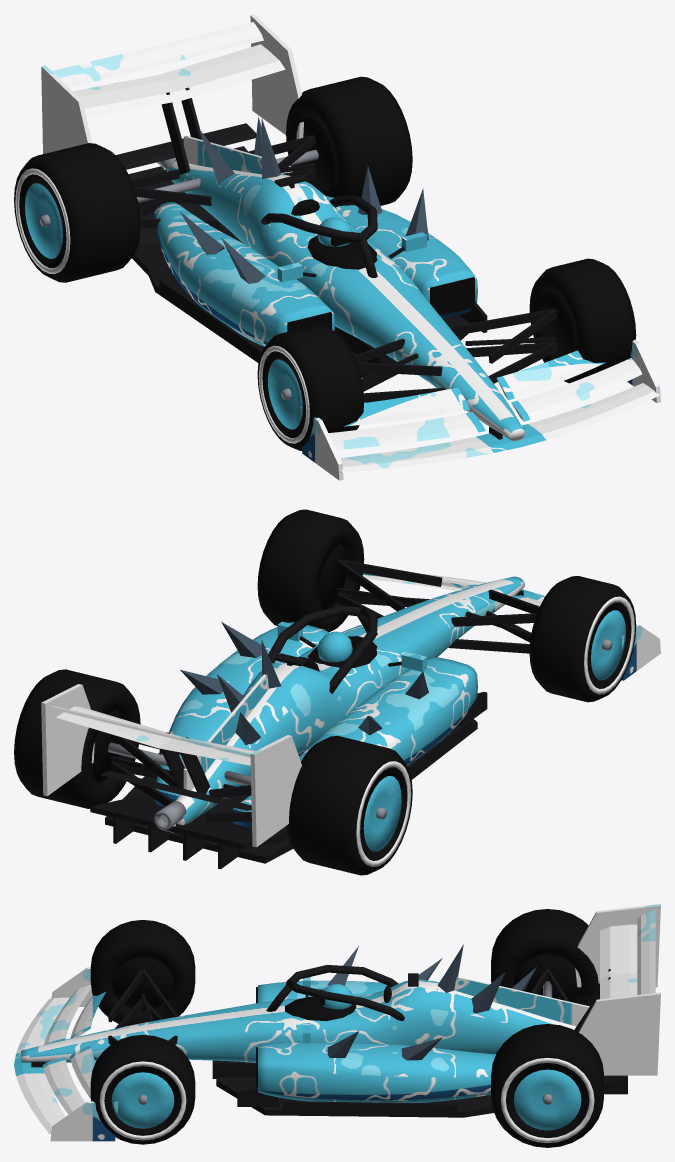
File: tundra_b.fbx
The picture shows the model from 3 angles, top to bottom: view 1: azimuth 30°, elevation 25°; view 2: azimuth 150°, elevation 25°; view 3: azimuth 270°, elevation 25°; orthographic projection. The views are drawn at different scales.
Parts seen in each view (by area): view 1: Body, Trim, Wheel_RL, Wheel_RR, Wheel_FL, Wheel_FR, Glass; view 2: Body, Trim, Wheel_RL, Wheel_FL, Wheel_FR, Wheel_RR, Glass; view 3: Body, Trim, Wheel_RR, Wheel_FR, Wheel_FL, Wheel_RL, Glass.
Boxes of the visible parts, left/top/right/bottom form: Body: left=41, top=14, right=660, bottom=480; Trim: left=115, top=87, right=557, bottom=439; Wheel_RL: left=14, top=143, right=140, bottom=282; Wheel_RR: left=286, top=76, right=412, bottom=205; Wheel_FL: left=257, top=325, right=364, bottom=450; Wheel_FR: left=529, top=258, right=636, bottom=383; Glass: left=180, top=117, right=428, bottom=283; Body: left=41, top=573, right=660, bottom=847; Trim: left=90, top=559, right=539, bottom=869; Wheel_RL: left=286, top=735, right=412, bottom=875; Wheel_FL: left=529, top=576, right=636, bottom=702; Wheel_FR: left=257, top=509, right=364, bottom=632; Wheel_RR: left=14, top=669, right=140, bottom=808; Glass: left=180, top=621, right=428, bottom=744; Body: left=14, top=904, right=660, bottom=1141; Trim: left=31, top=965, right=627, bottom=1117; Wheel_RR: left=491, top=1024, right=603, bottom=1147; Wheel_FR: left=90, top=1035, right=195, bottom=1144; Wheel_FL: left=90, top=920, right=195, bottom=1026; Wheel_RL: left=491, top=909, right=598, bottom=1004; Glass: left=327, top=944, right=536, bottom=1060.
Bounding box in the file's own units: 9.81 × 4.3 × 18.55.
Materials: 5 (1 with a texture image).
